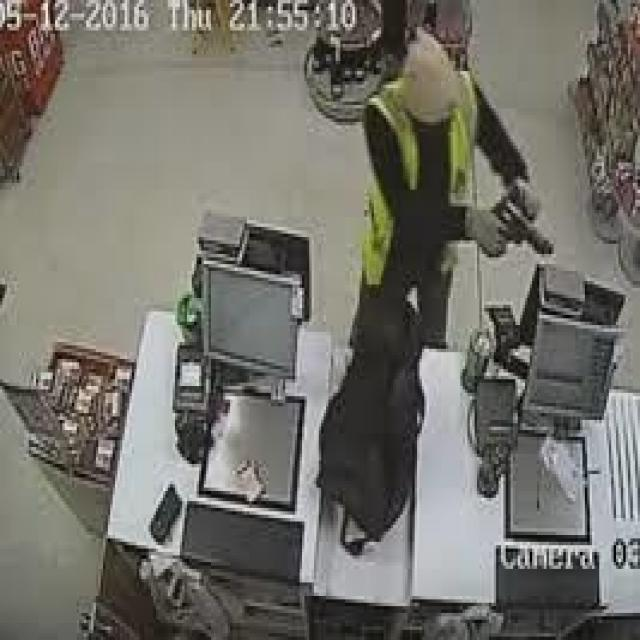weapon: (486, 186, 556, 258)
